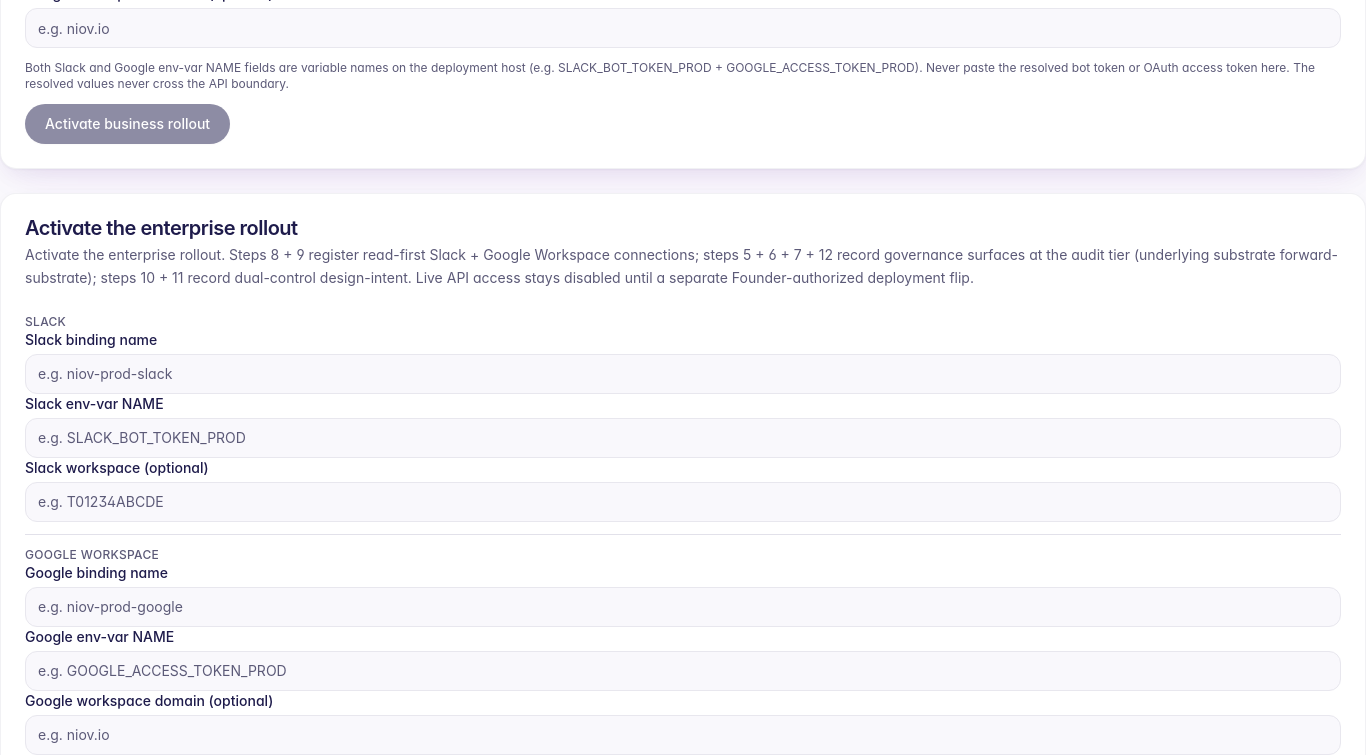
Test: D6 enterprise — successful activation › highlights step 8 (Slack binding) AND step 9 (Google binding) AND steps 10 + 11 (DUAL-CONTROL)
(page scrolled)
Type "niov-prod-slack" into the field with test id "enterprise-slack-display-name-input" at coordinates (683, 374), box [25,354,1341,394]
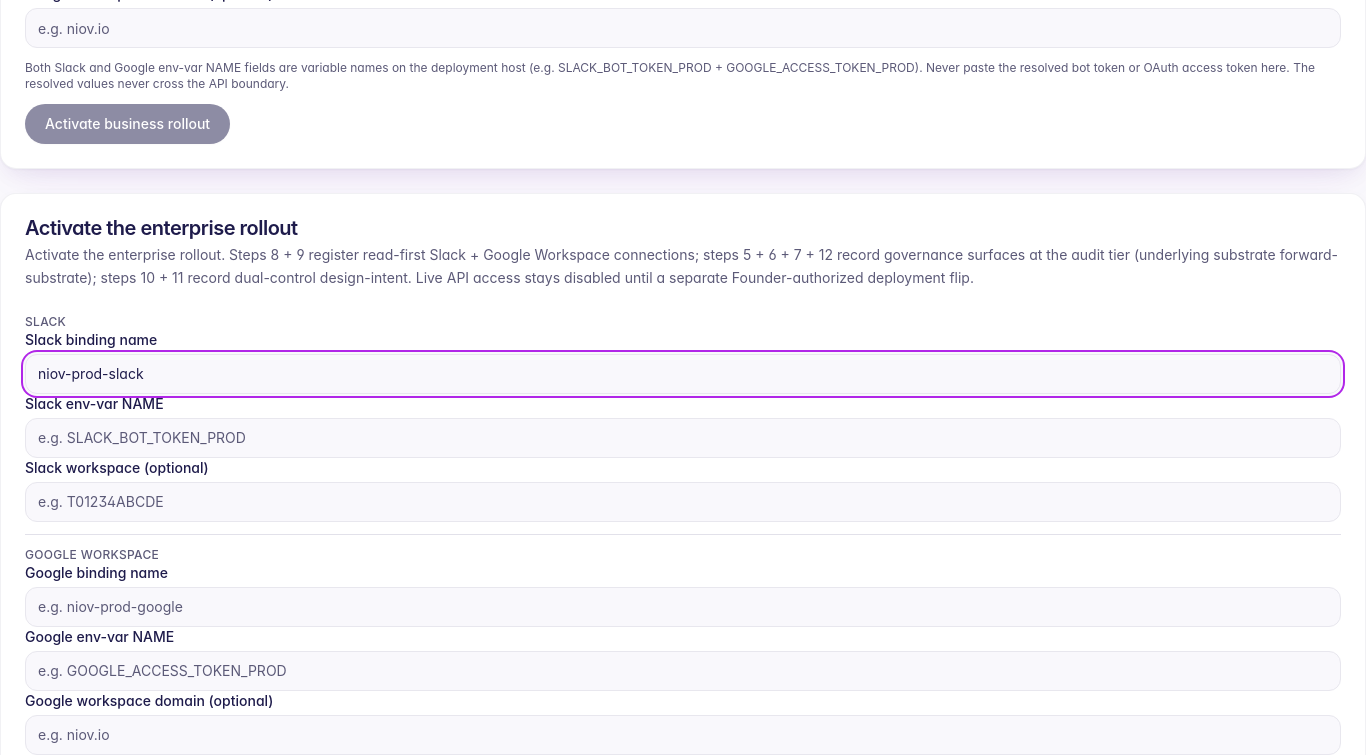
Type "SLACK_BOT_TOKEN_PROD" into the field with test id "enterprise-slack-secret-ref-input" at coordinates (683, 438), box [25,418,1341,458]
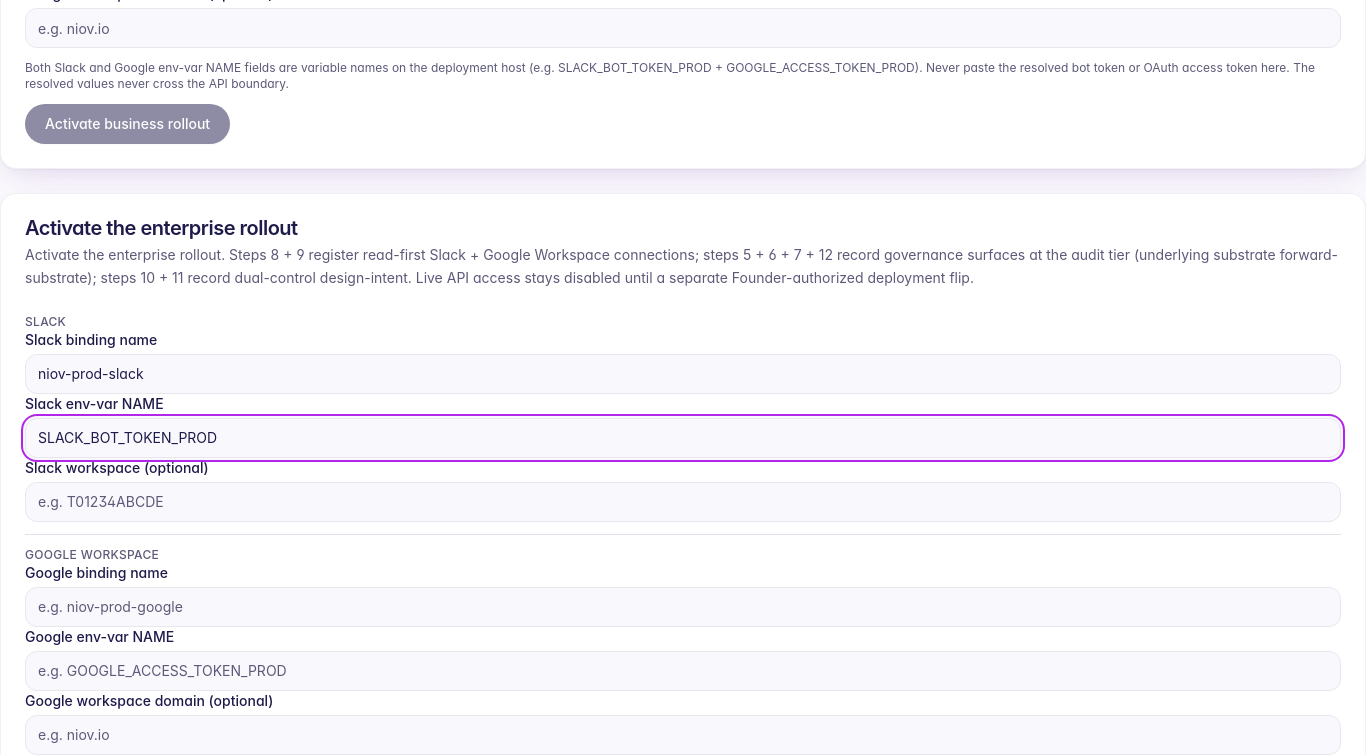
Type "niov-prod-google" into the field with test id "enterprise-google-display-name-input" at coordinates (683, 606), box [25,586,1341,626]
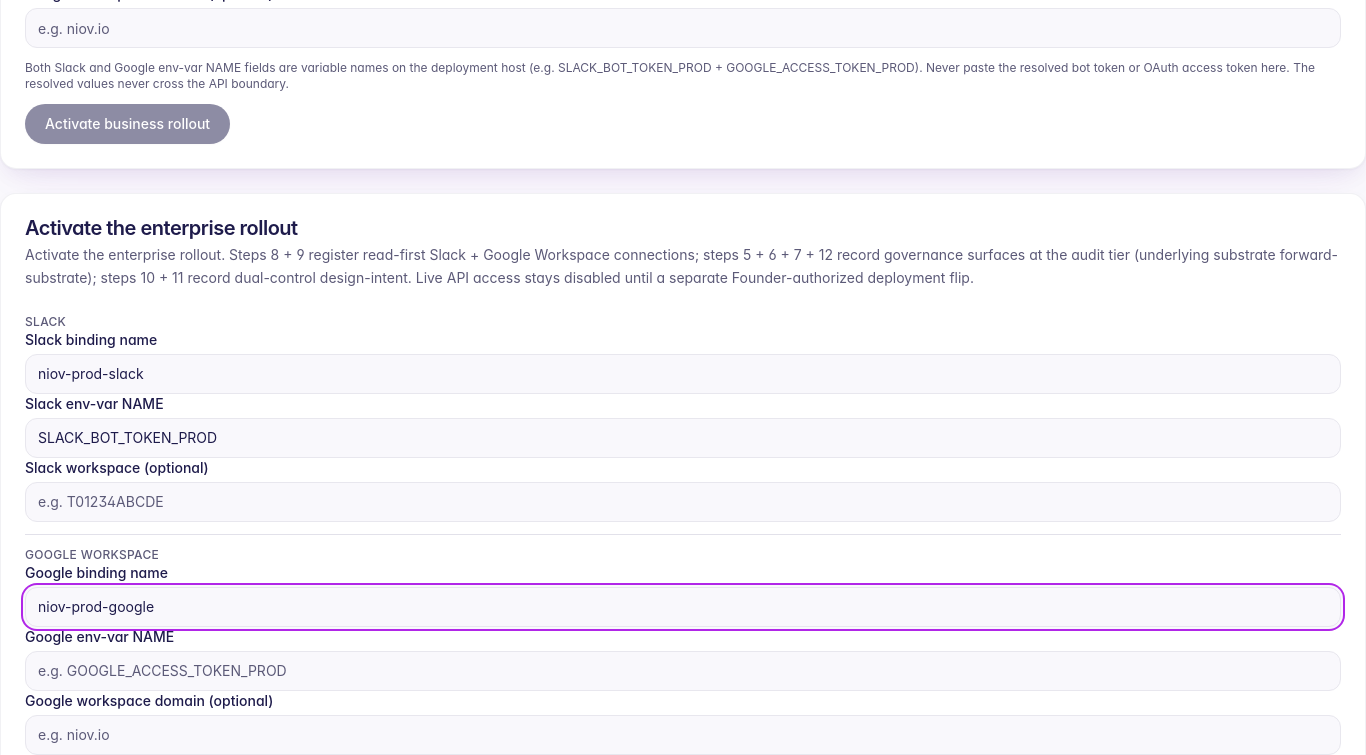
Type "GOOGLE_ACCESS_TOKEN_PROD" into the field with test id "enterprise-google-secret-ref-input" at coordinates (683, 670), box [25,650,1341,690]
(page scrolled)
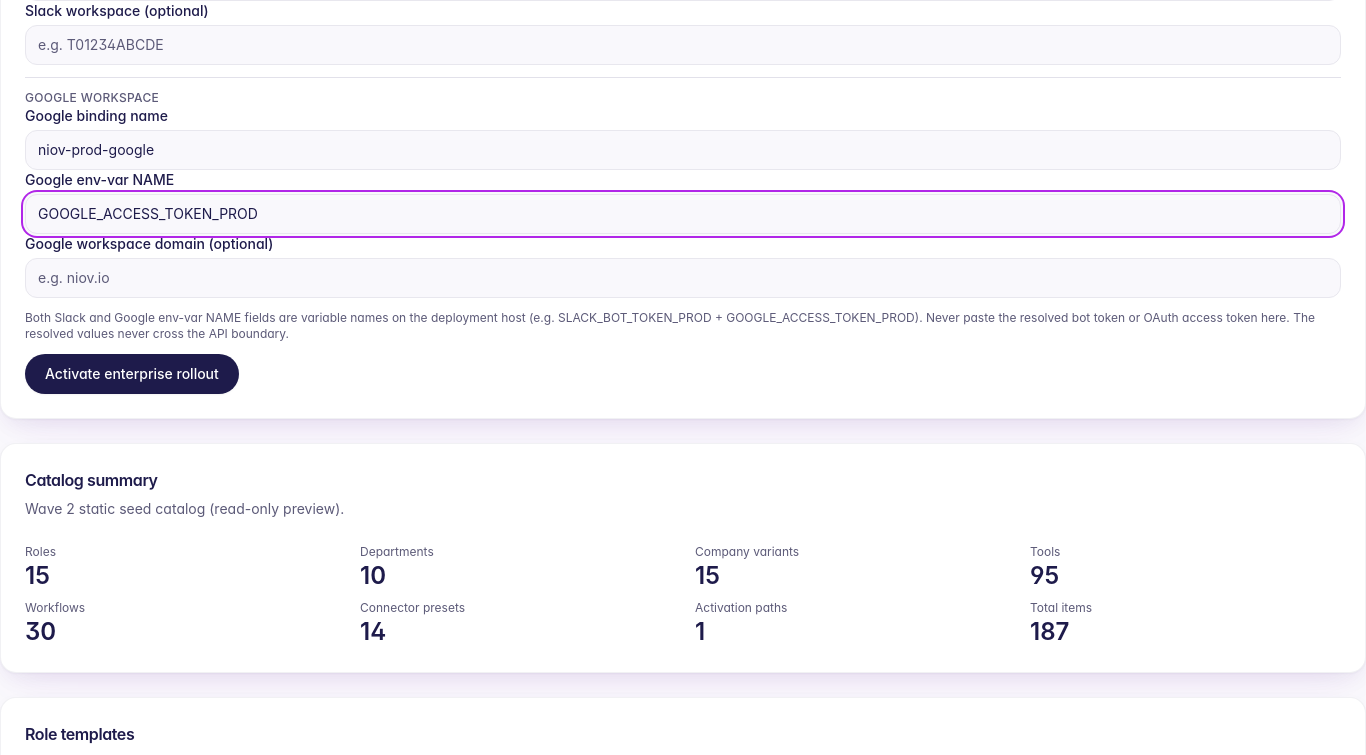
Click the button with test id "activate-enterprise-button" at coordinates (132, 374), box [25,354,239,394]
(page scrolled)
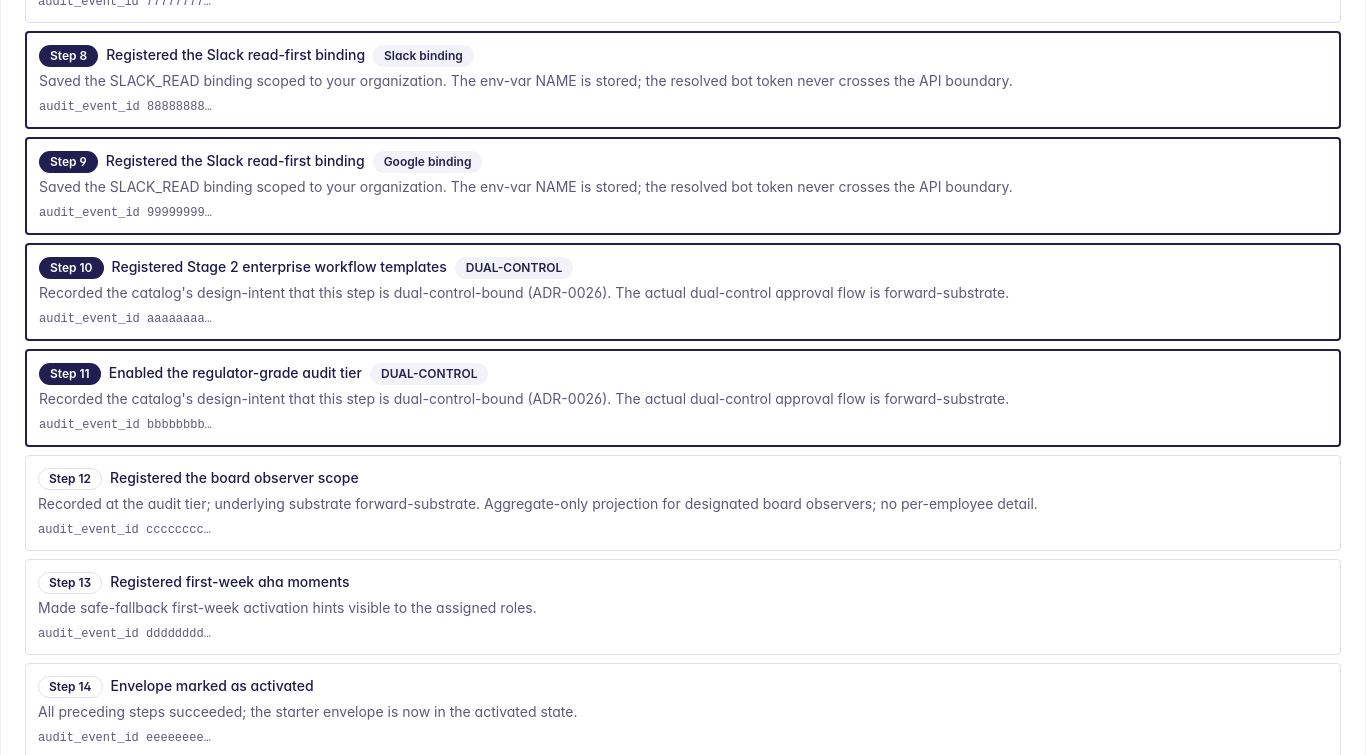
Result: the text "Slack binding" is shown at [373,44,474,66]
Result: the text "Google binding" is shown at [373,150,482,172]
Result: the text with test id "dual-control-highlight" is shown at [455,256,573,278]
